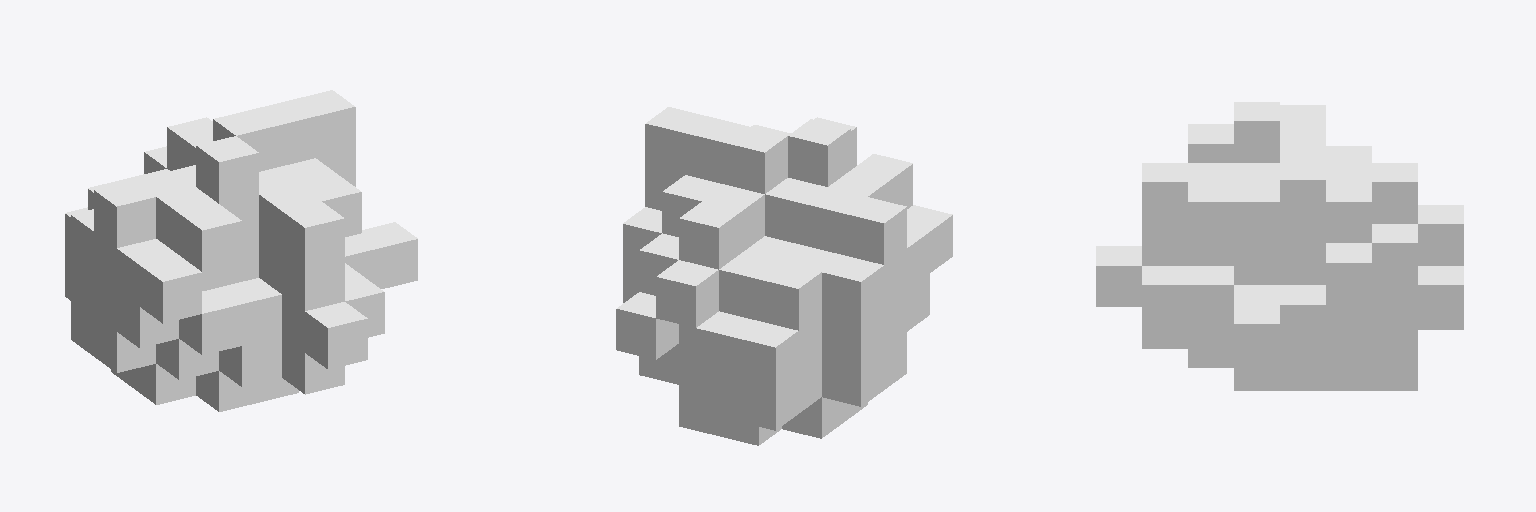
File: ice.obj
3 views of the same model, side by side, from view 1: azimuth 30°, elevation 25°; view 2: azimuth 150°, elevation 25°; view 3: azimuth 270°, elevation 25° (orthographic).
Parts seen in each view (by area): view 1: object 1; view 2: object 1; view 3: object 1.
Part boxes in pixels (x1,y1,x2,y2): object 1: (65, 90, 417, 411); object 1: (616, 107, 952, 445); object 1: (1096, 102, 1463, 390).
Size of the model in its own units: 0.7 by 0.6 by 0.8.